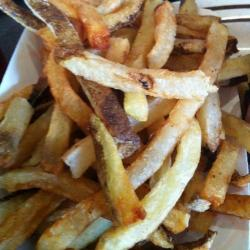fries: (36, 25, 194, 216)
